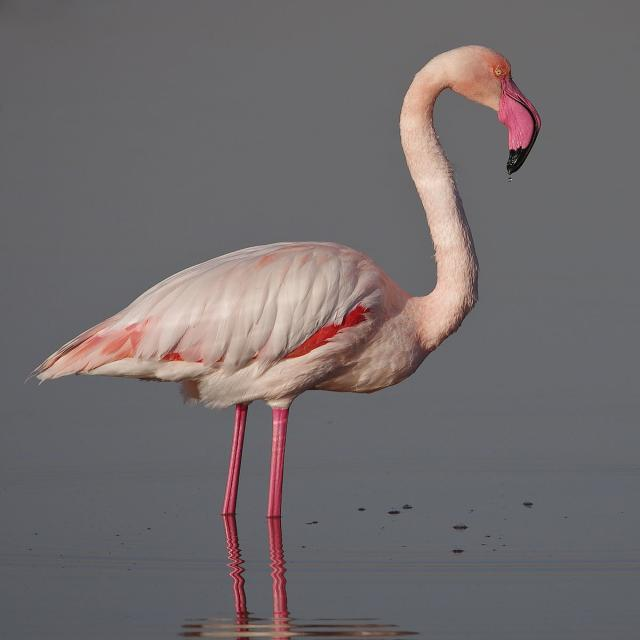Flamingo: (42, 40, 552, 627)
